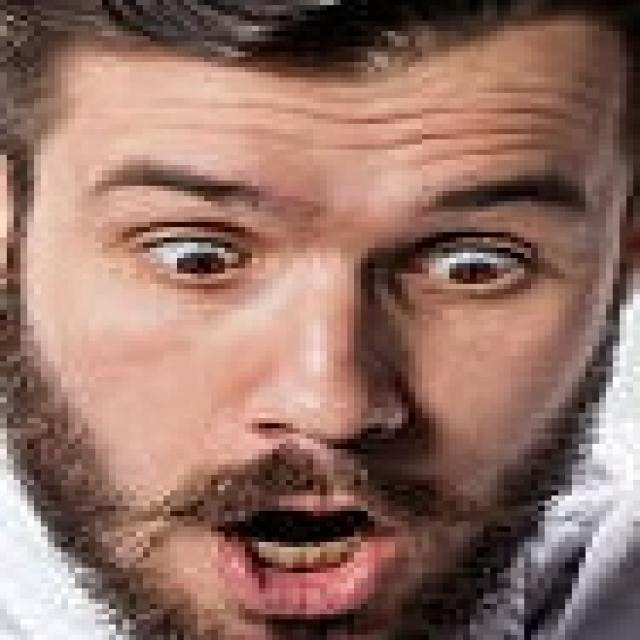Anxiety: (7, 15, 633, 635)
